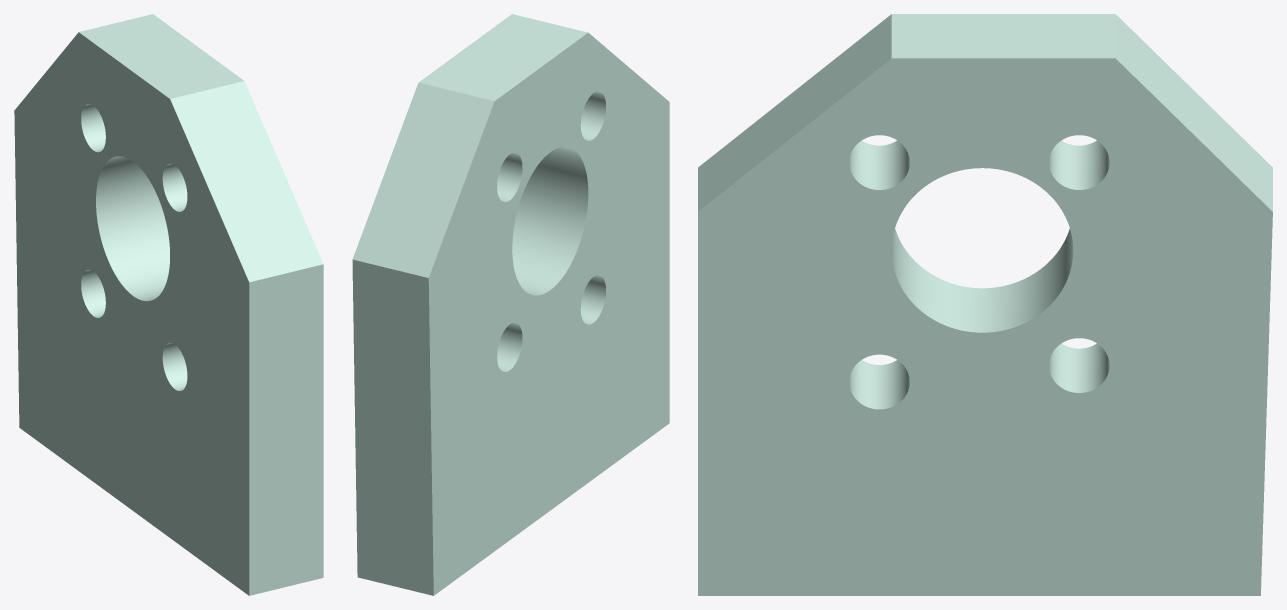
The picture shows the model from 3 angles, left to right: view 1: azimuth 30°, elevation 25°; view 2: azimuth 150°, elevation 25°; view 3: azimuth 270°, elevation 25°; orthographic projection. The views are drawn at different scales.
Visible parts, largest first — view 1: Renderer Node; view 2: Renderer Node; view 3: Renderer Node.
Part boxes in pixels (bbox=[...]): Renderer Node: bbox=[14, 14, 323, 595]; Renderer Node: bbox=[352, 14, 669, 595]; Renderer Node: bbox=[698, 14, 1272, 595].
Bounding box in the file's own units: 0.1328 × 0.7495 × 0.7266.
